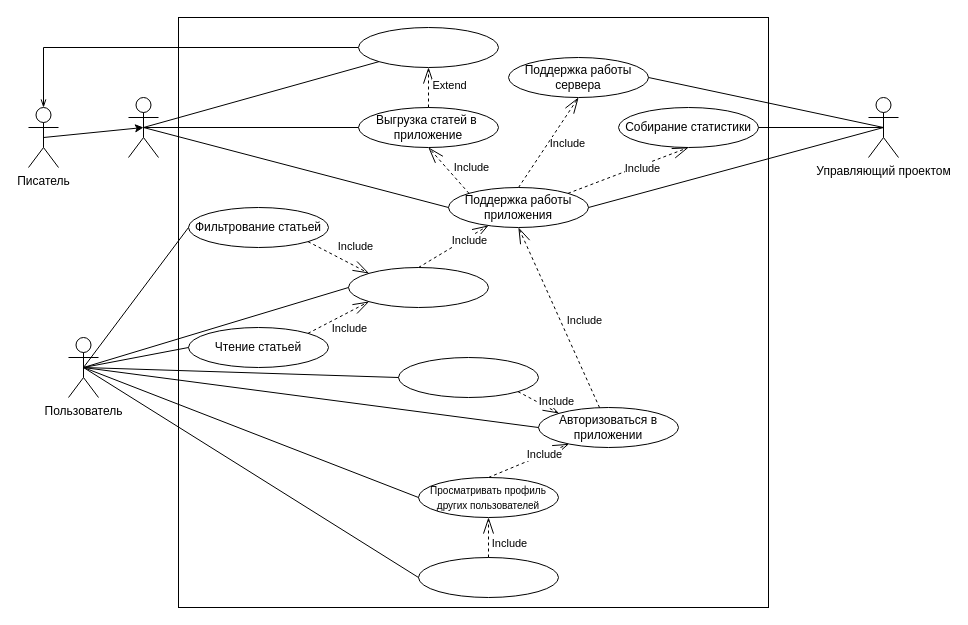
Some shapes in this 968 by 625 pixel diagram are drawn without their labels. Each missing label, with the box of its shape:
Возврат статьи на дороботку: (358, 26, 498, 68)
Добавлять в друзья: (418, 556, 558, 598)
Оценивать и сохранять статьи: (398, 356, 538, 398)
Просматривать статьи: (348, 266, 488, 308)
Редактор: (128, 96, 158, 158)
